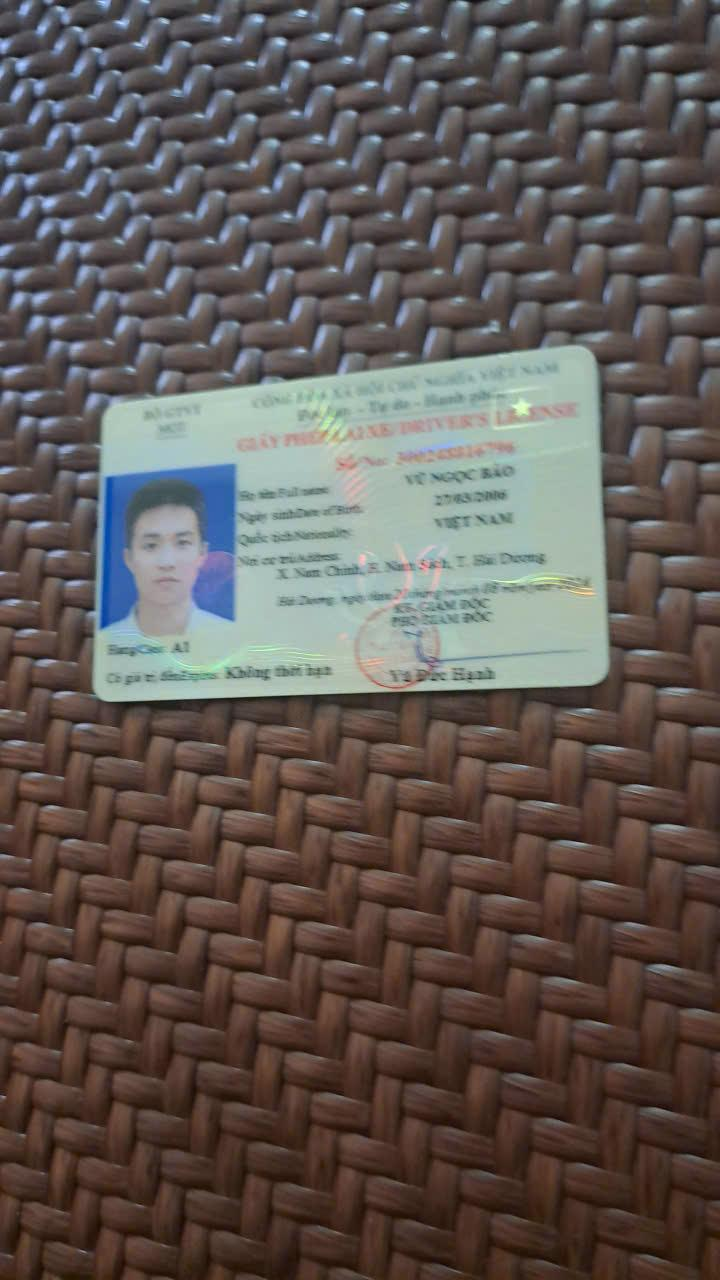gplx: (84, 339, 618, 710)
